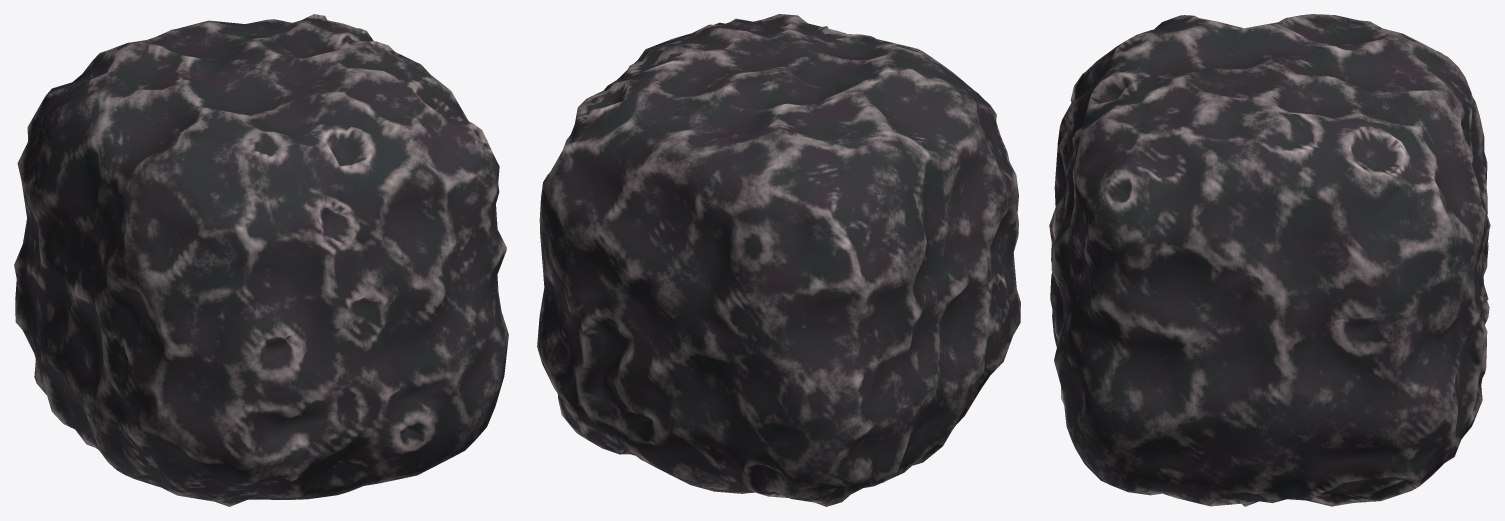
3 views of the same model, side by side, from view 1: azimuth 30°, elevation 25°; view 2: azimuth 150°, elevation 25°; view 3: azimuth 270°, elevation 25° (orthographic). The views are drawn at different scales.
Visible parts, largest first — view 1: Cube.001_low_poly; view 2: Cube.001_low_poly; view 3: Cube.001_low_poly.
Boxes of the visible parts, left/top/right/bottom form: Cube.001_low_poly: left=14, top=14, right=508, bottom=506; Cube.001_low_poly: left=537, top=14, right=1020, bottom=506; Cube.001_low_poly: left=1049, top=14, right=1490, bottom=506.
Size of the model in its own units: 13.96 by 13.76 by 13.9.
Materials: 1 (1 with a texture image).
